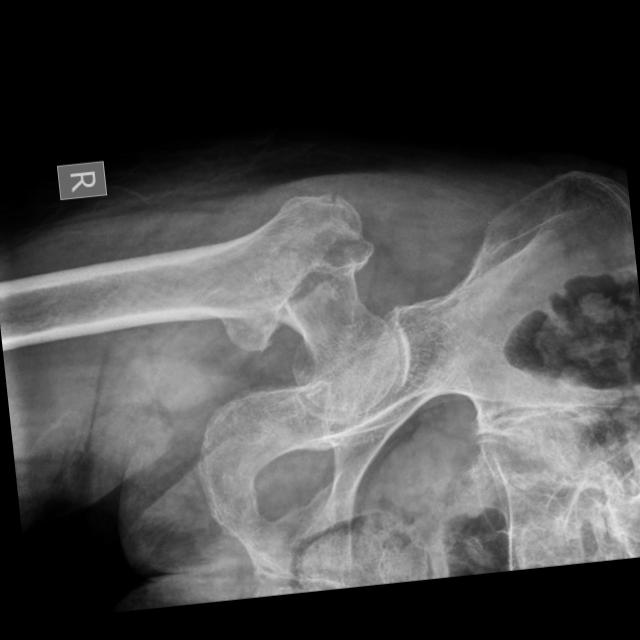right-neck: (169, 193, 374, 351), (275, 263, 398, 415)
